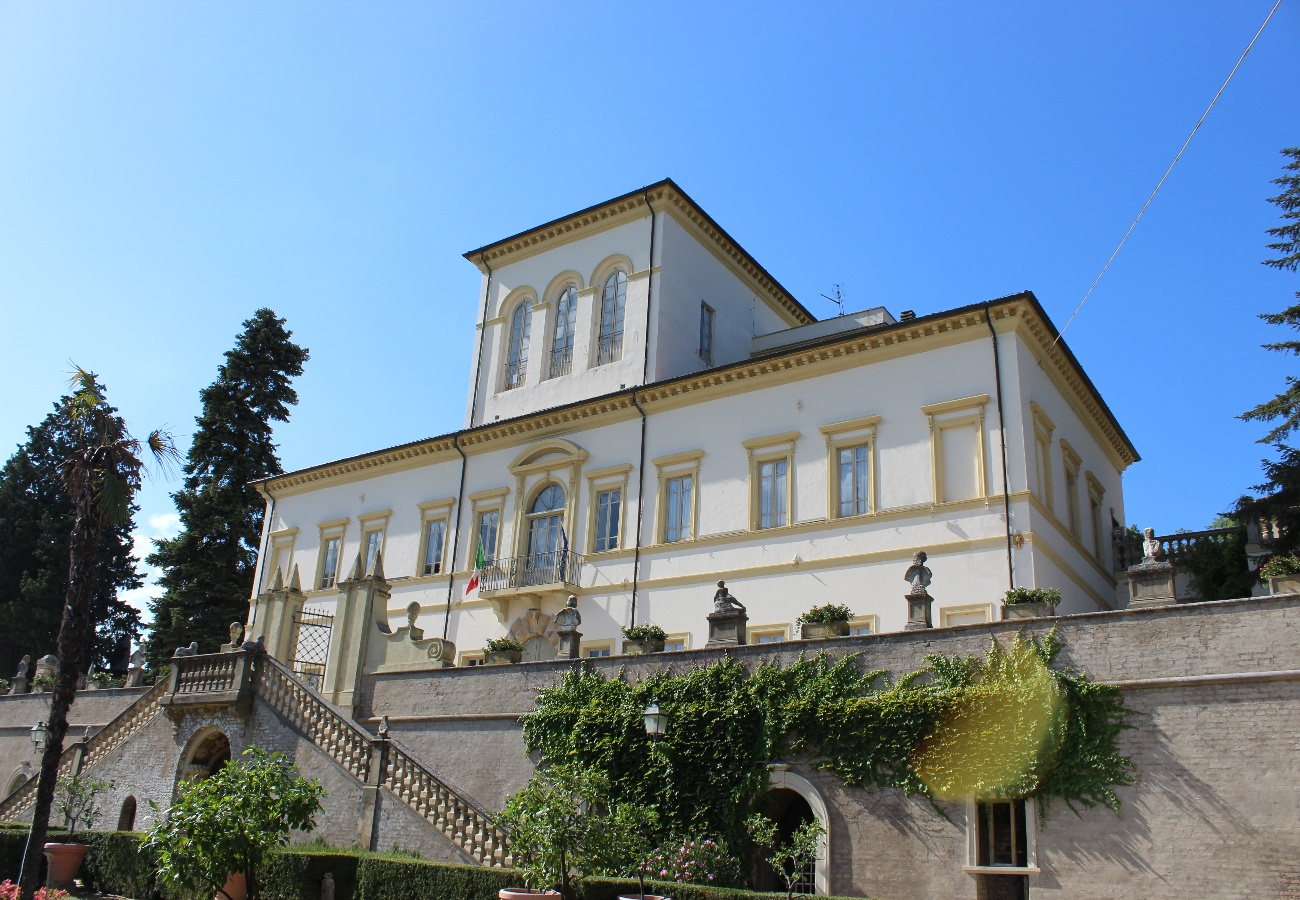Villa Caprile: (240, 177, 1147, 687)
